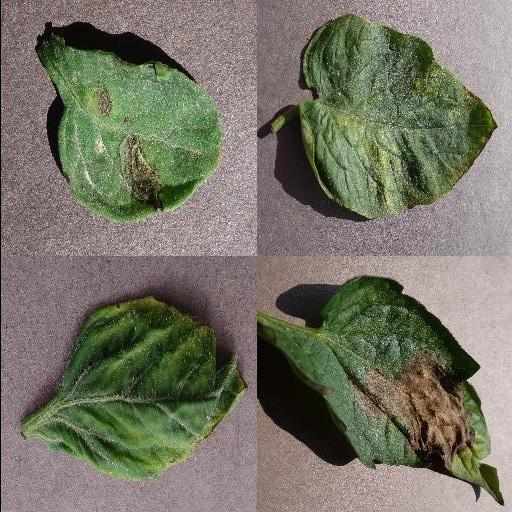Early Blight: (37, 31, 223, 223)
Late Blight: (256, 273, 504, 505)
Spider Mites: (296, 16, 498, 218)
Yellow Leaf Curl Virus: (45, 295, 247, 481)
